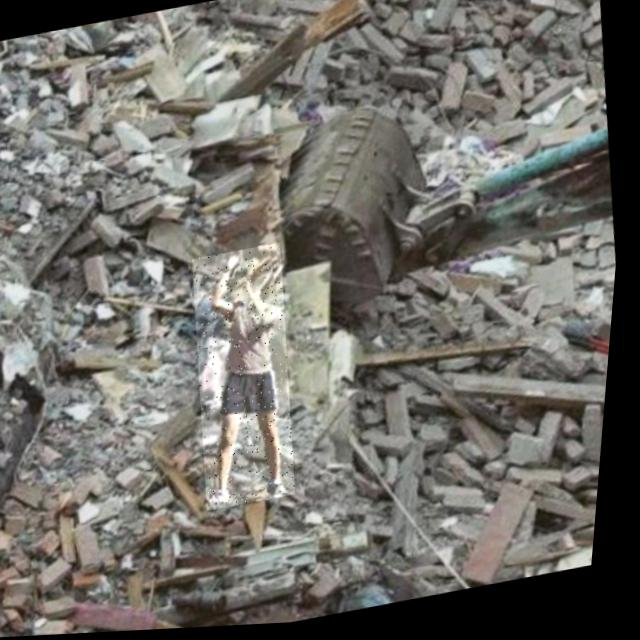Person in Rubble: (180, 244, 320, 515)
